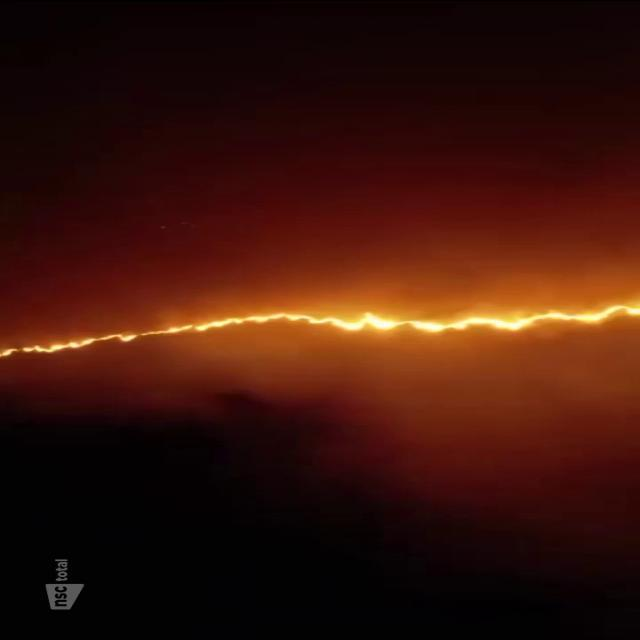Fire: (2, 280, 636, 360)
